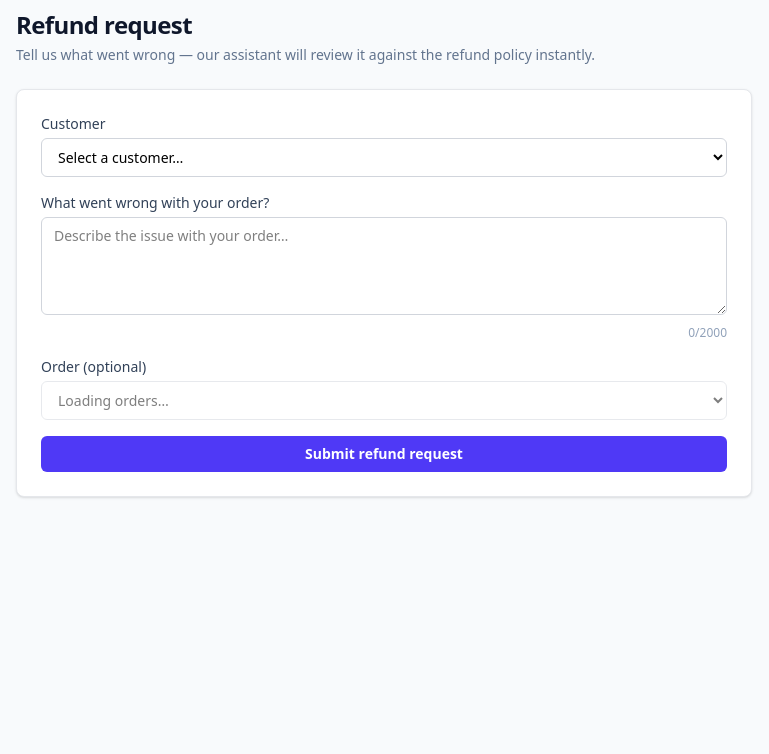
it: CustomerChat › 'New request' clears the card and textarea but keeps the customer
This screenshot has width=769, height=754.
Select "Alice Brown (alice@example.com)" in the dropdown labelled "Customer" at {"x": 384, "y": 158}, box [41,138,727,177]
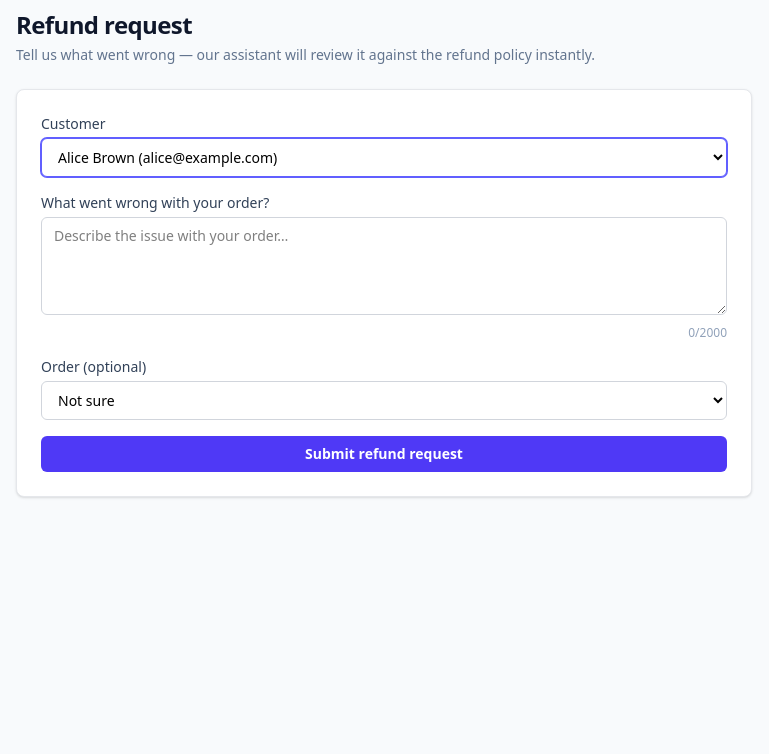
Type "Cracked casing" into the text box labelled "What went wrong with your order?".
click(384, 266); type("Cracked casing")  # box [41,217,727,315]
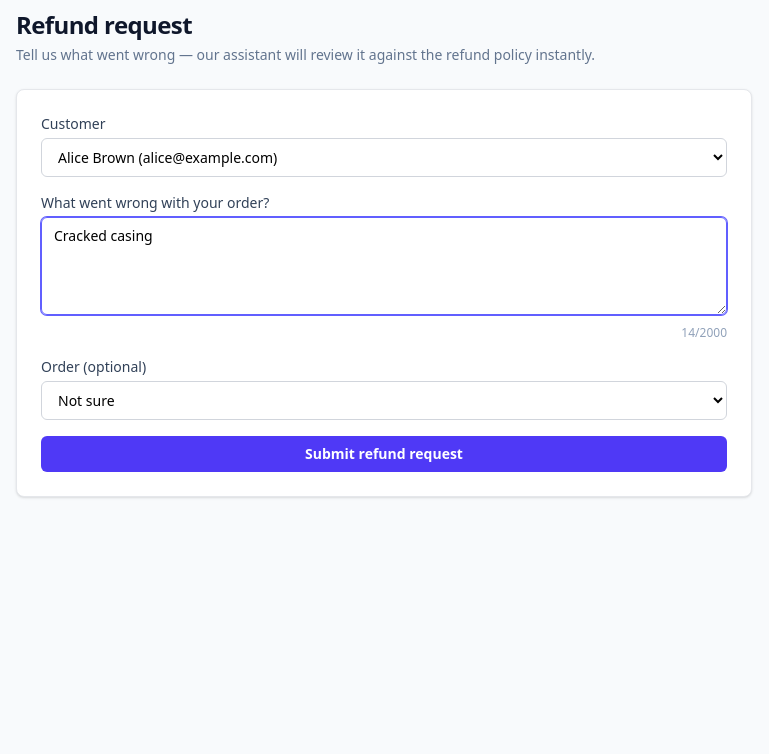
Click the button "Submit refund request".
click(384, 454)  # box [41,436,727,472]
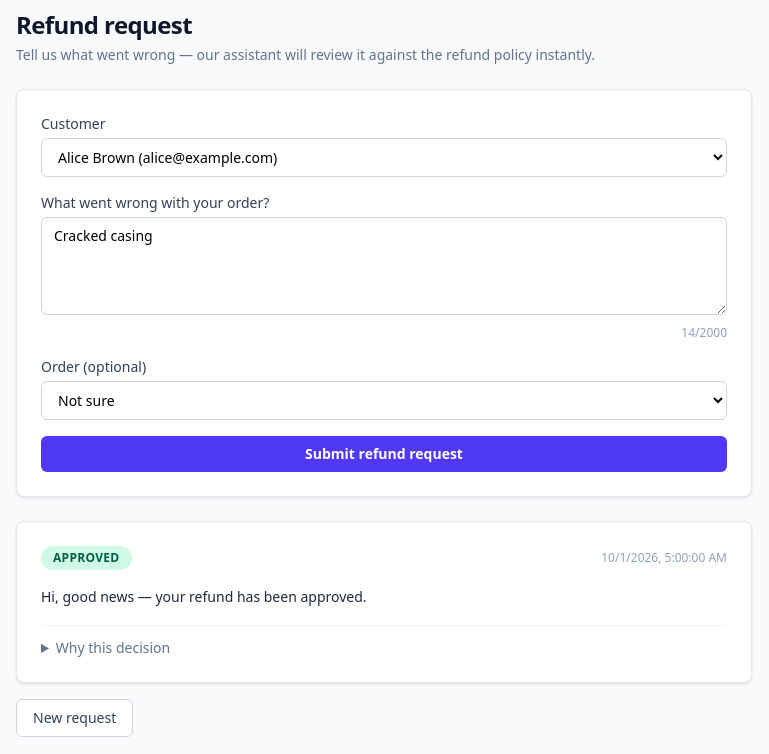
expect the element named "Refund decision" is shown: met, box [16,521,752,683]
Click the button "New request".
click(75, 718)  # box [16,699,133,737]
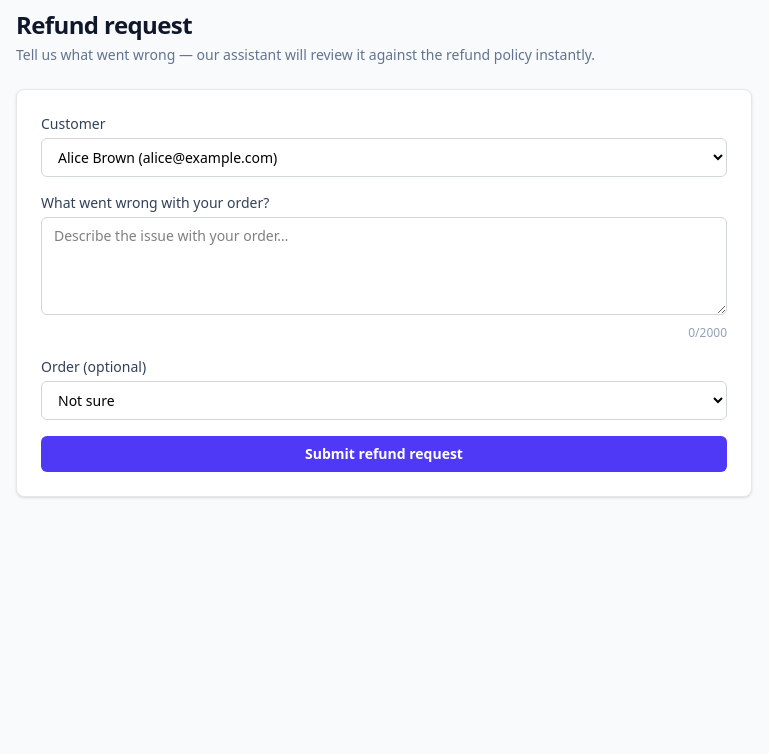
expect the dropdown labelled "Customer" shows "Alice Brown (alice@example.com)": met, box [41,138,727,177]
expect the text box labelled "What went wrong with your order?" is empty: met, box [41,217,727,315]
